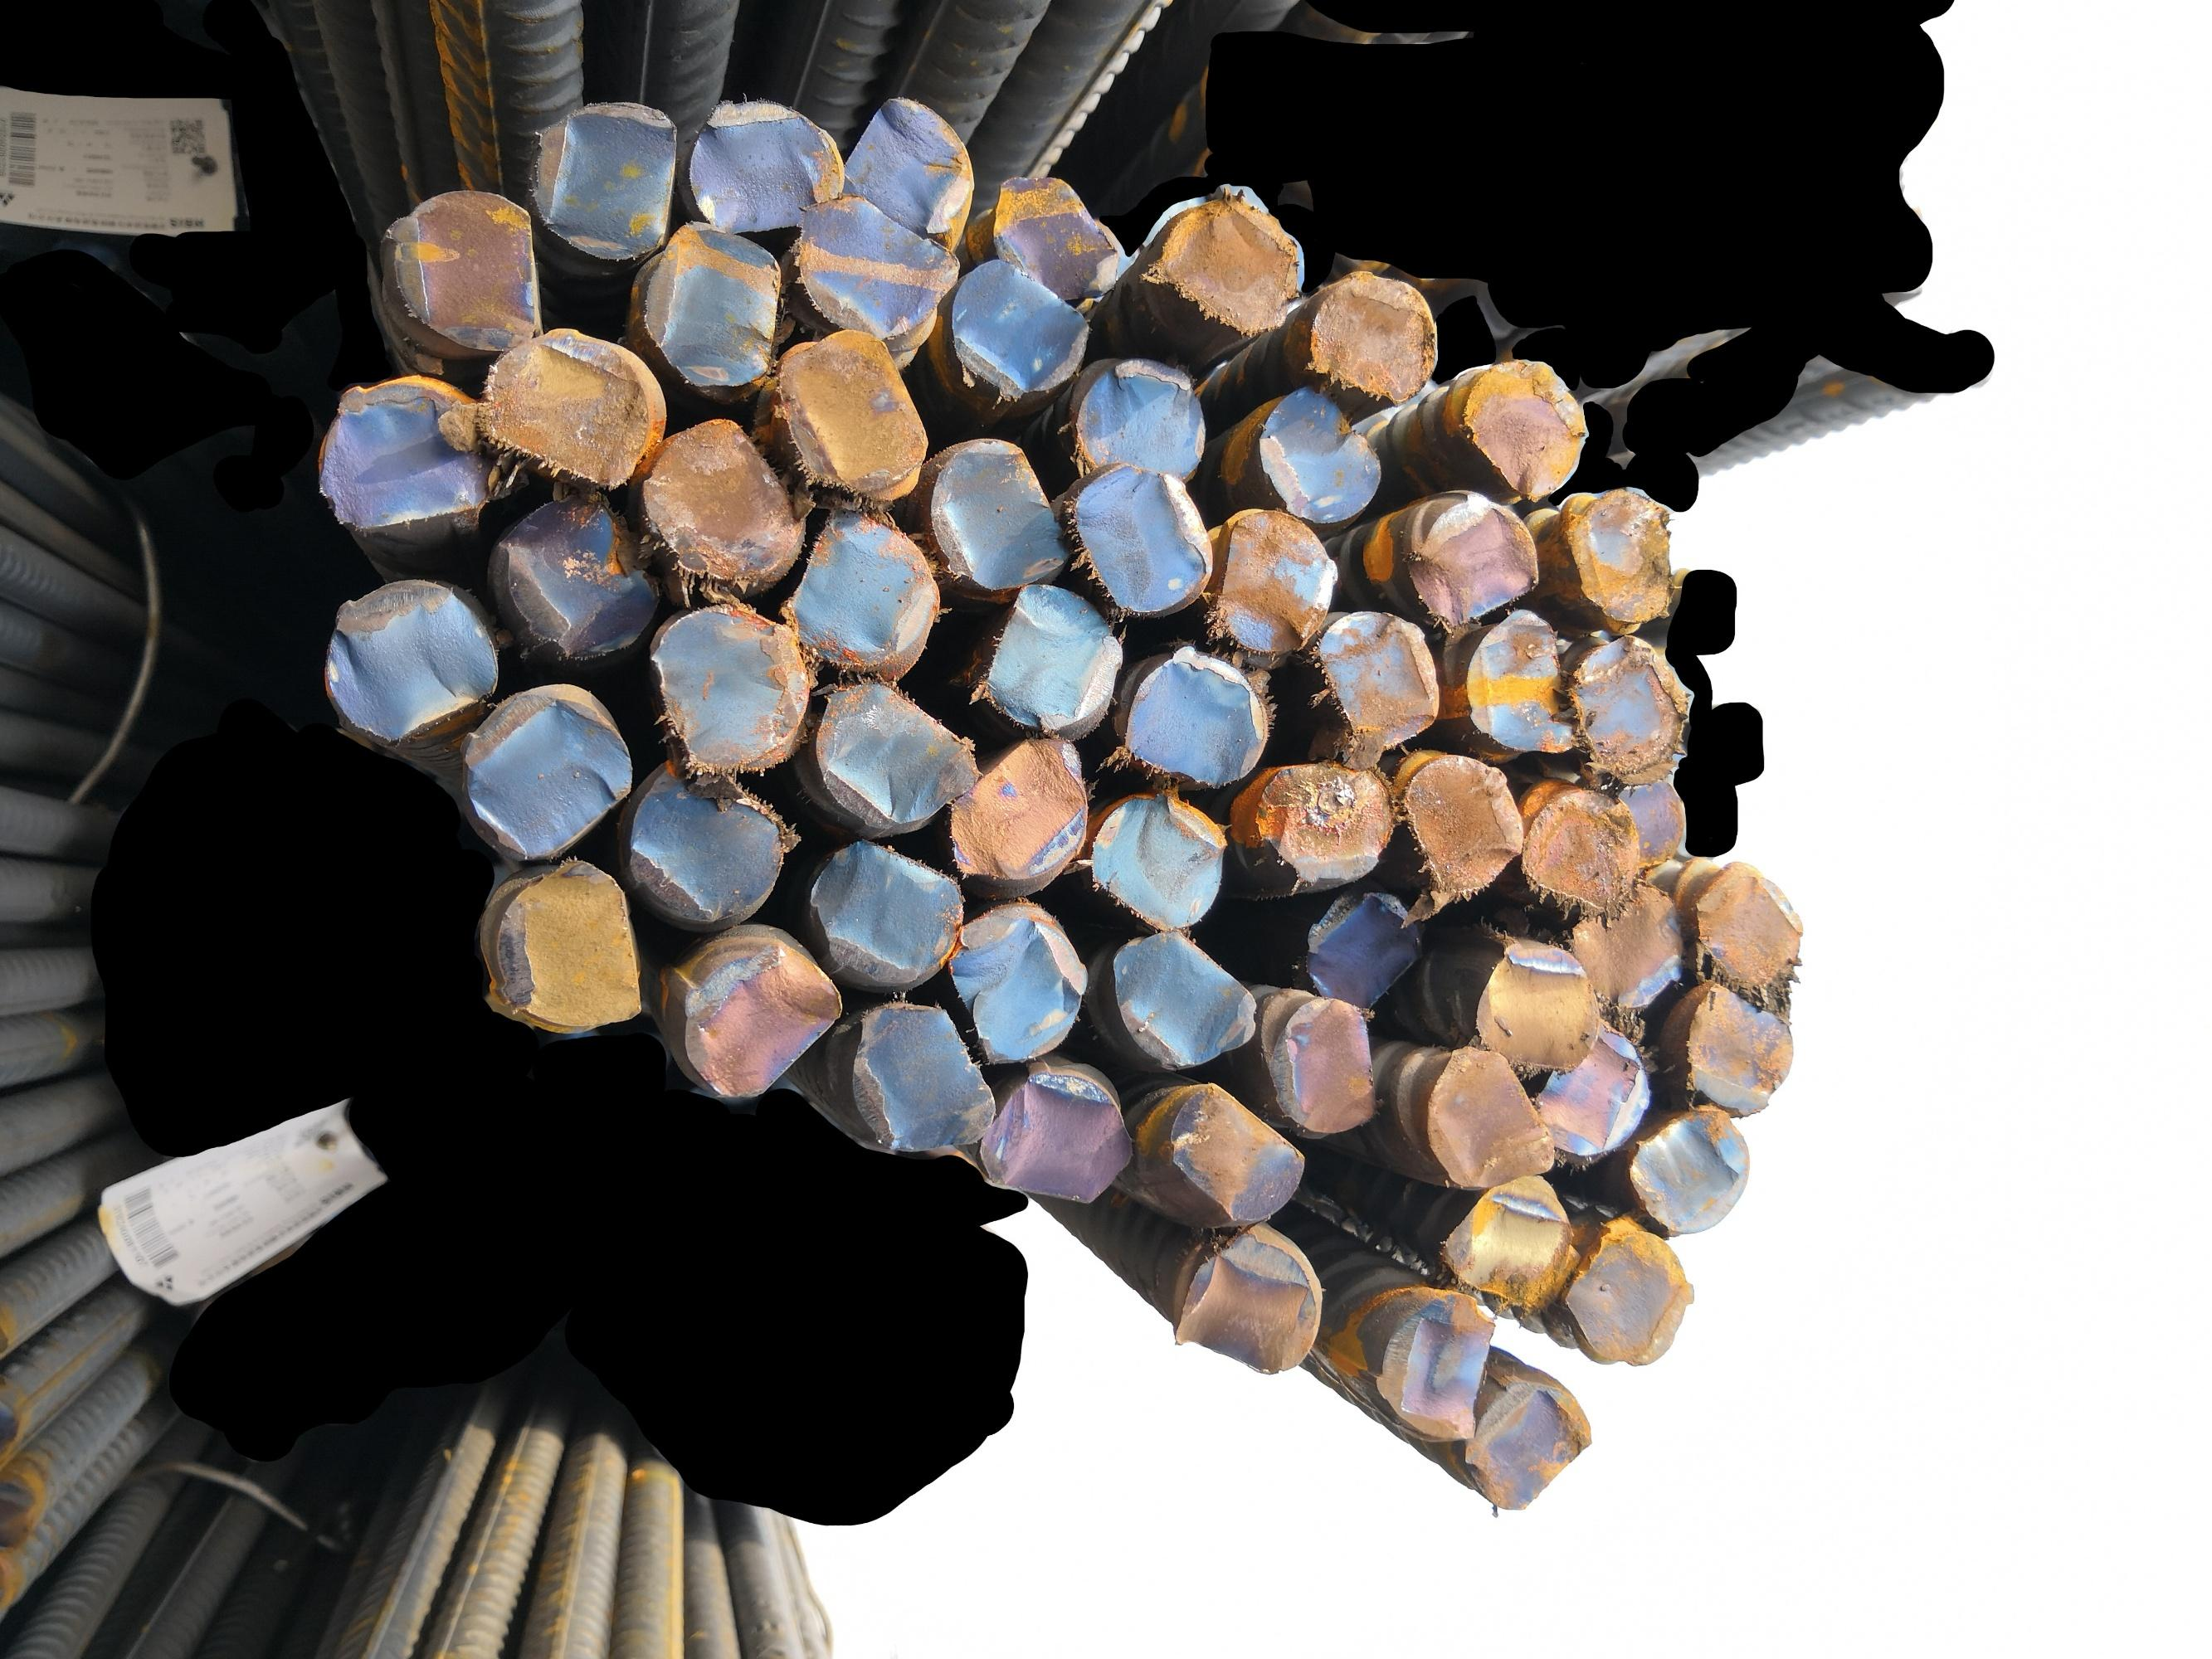bar: (479, 323, 655, 497), (631, 416, 807, 590), (323, 577, 500, 742), (464, 689, 631, 859), (653, 605, 807, 788), (679, 941, 845, 1109), (628, 754, 787, 923), (384, 183, 543, 353), (769, 329, 930, 495), (776, 500, 933, 669), (786, 192, 963, 343), (495, 498, 652, 667), (309, 381, 481, 533), (851, 989, 1001, 1161), (1162, 1225, 1329, 1379), (498, 864, 652, 1029), (527, 96, 680, 263), (815, 676, 979, 829), (638, 222, 788, 387), (947, 897, 1088, 1071), (969, 1061, 1136, 1203), (1064, 460, 1211, 617), (943, 253, 1099, 401), (941, 732, 1095, 879), (928, 433, 1069, 595), (1107, 927, 1259, 1070), (976, 581, 1122, 730), (811, 844, 964, 985), (834, 91, 973, 245), (1084, 785, 1225, 933), (1147, 199, 1298, 337), (1165, 1082, 1308, 1227), (1121, 647, 1265, 790), (1567, 1215, 1697, 1373), (1213, 503, 1339, 664), (1404, 490, 1541, 639), (1401, 741, 1525, 905), (1375, 1287, 1498, 1451), (689, 100, 841, 231), (1464, 353, 1592, 505), (1319, 606, 1447, 759), (1424, 1044, 1554, 1191), (1461, 1370, 1593, 1515), (1563, 875, 1689, 1021), (1445, 1181, 1583, 1314), (986, 174, 1126, 305), (1577, 631, 1694, 788), (1256, 766, 1400, 892), (1071, 357, 1206, 491), (1471, 599, 1581, 761), (1311, 270, 1445, 403), (1523, 776, 1640, 925), (1682, 854, 1805, 995), (1539, 1023, 1657, 1170), (1625, 1095, 1746, 1238), (1256, 389, 1380, 524), (1476, 937, 1596, 1075), (1681, 977, 1794, 1119), (1303, 887, 1427, 1013), (1581, 480, 1678, 631), (1285, 989, 1379, 1140), (1609, 773, 1692, 878)
